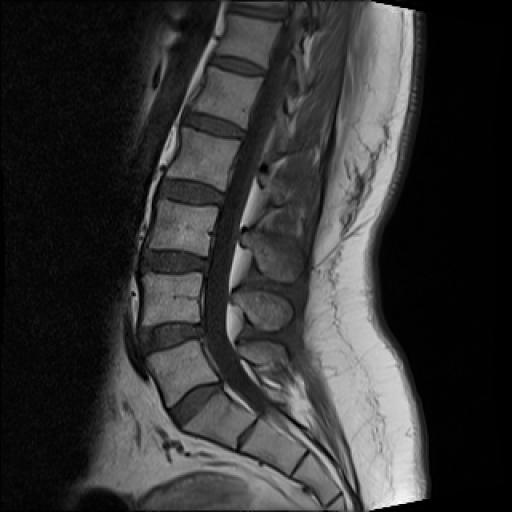L1: (188, 67, 264, 131)
L2: (166, 126, 240, 190)
L3: (149, 200, 218, 256)
L4: (142, 273, 200, 326)
L5: (146, 340, 219, 406)
S1: (183, 389, 256, 448)
